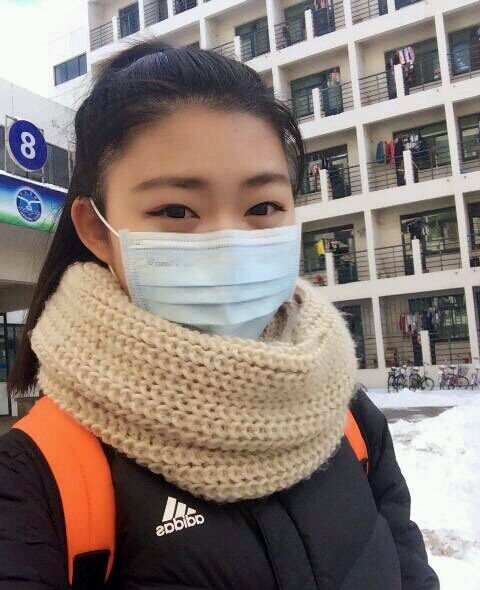face_mask: (107, 97, 300, 349)
